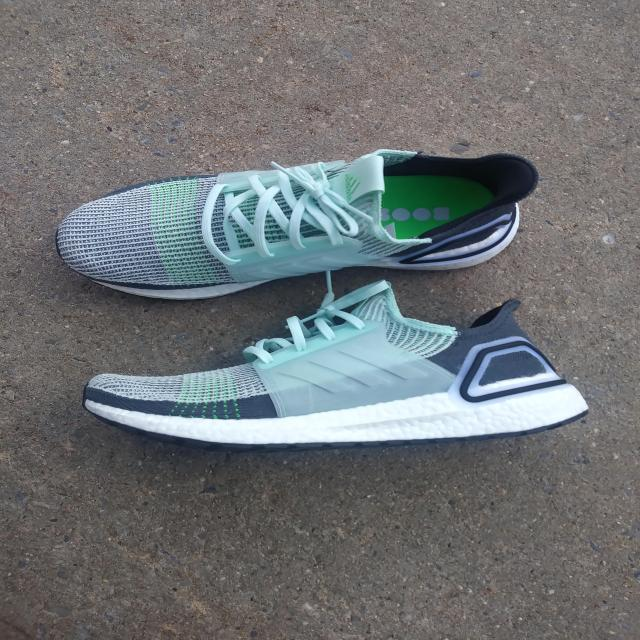shoe: (29, 298, 626, 462), (40, 152, 593, 283)
